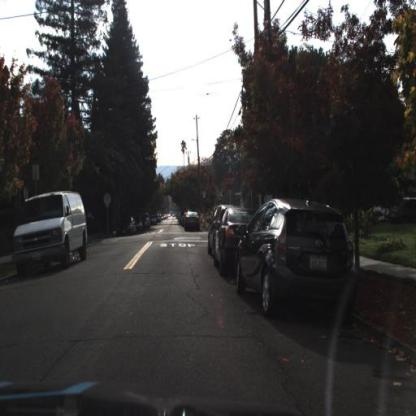car: (232, 192, 366, 333), (233, 196, 362, 320), (10, 186, 92, 282), (11, 188, 89, 277), (211, 204, 265, 285), (212, 201, 254, 277), (207, 204, 226, 255), (116, 213, 139, 239), (183, 208, 203, 237), (185, 208, 202, 233), (122, 218, 136, 236)
